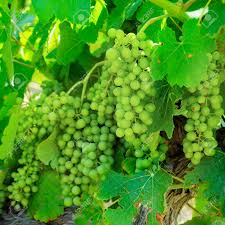grapes: (55, 96, 109, 209), (107, 26, 155, 153), (183, 55, 222, 168), (12, 98, 43, 210)
